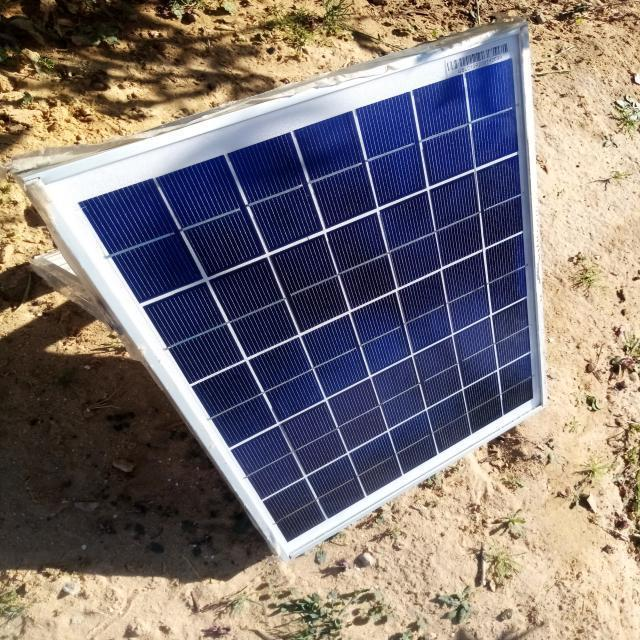Normal Solar Panel: (33, 25, 550, 557)
